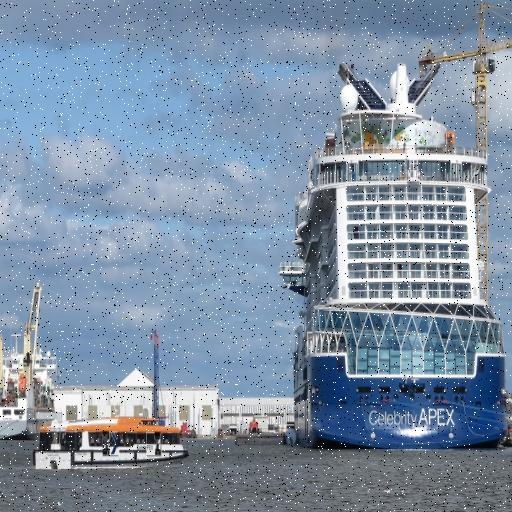cruises: (281, 62, 510, 452)
